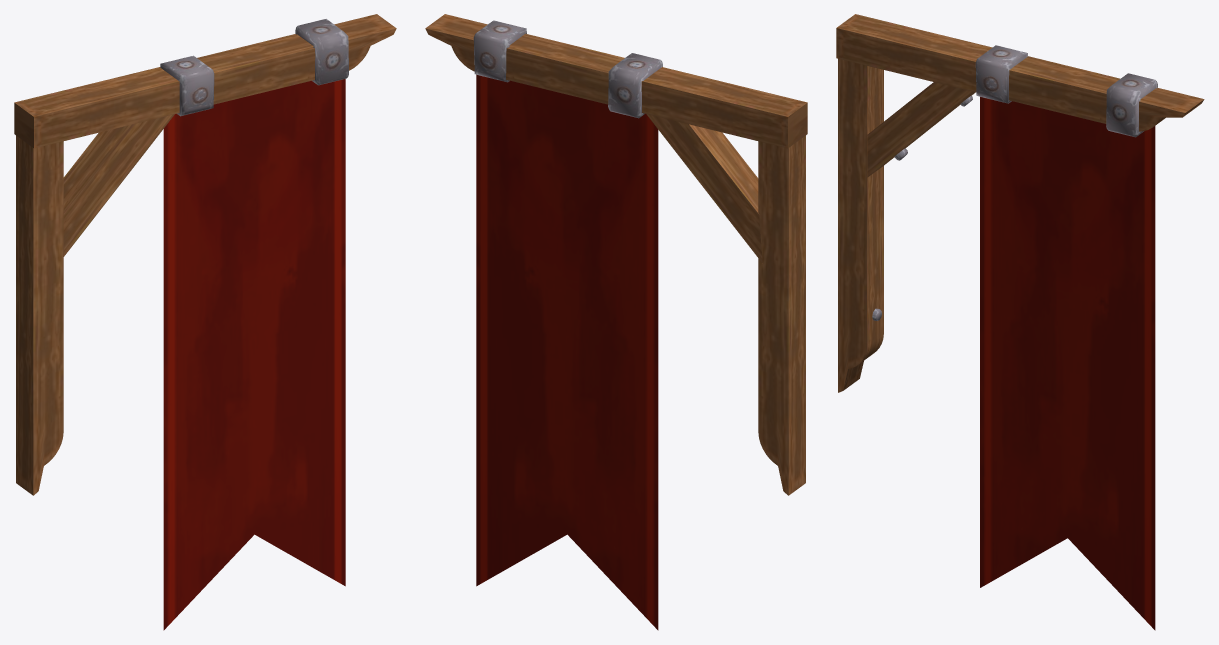
Rendered from Banner_1.gltf.
3 renders of one model, left to right at view 1: azimuth 30°, elevation 25°; view 2: azimuth 150°, elevation 25°; view 3: azimuth 330°, elevation 25°, orthographic. The views are drawn at different scales.
Visible parts, largest first — view 1: Banner_1; view 2: Banner_1; view 3: Banner_1.
Boxes of the visible parts, left/top/right/bottom form: Banner_1: left=14, top=14, right=396, bottom=630; Banner_1: left=425, top=14, right=807, bottom=630; Banner_1: left=836, top=14, right=1204, bottom=630.
Bounding box in the file's own units: 1.61 × 2.39 × 0.1906.
Materials: 3 (3 with a texture image).
